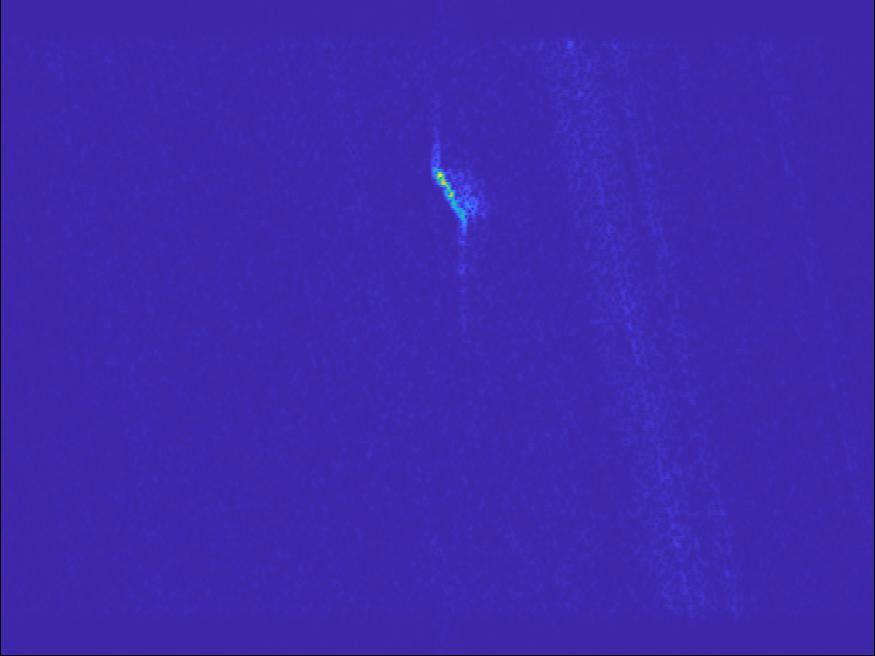Interference: (422, 466, 639, 645), (575, 428, 644, 483)
